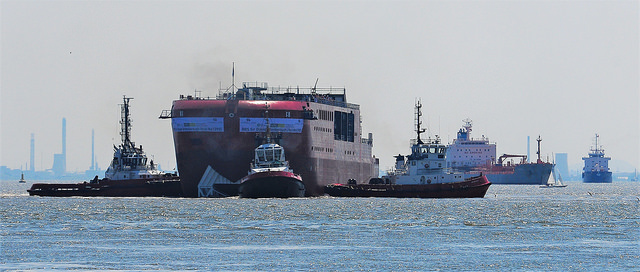PCC: (171, 81, 369, 191)
bulk carrier: (577, 143, 615, 183)
tug_boat: (36, 105, 171, 196), (338, 117, 488, 197), (239, 122, 304, 202)
